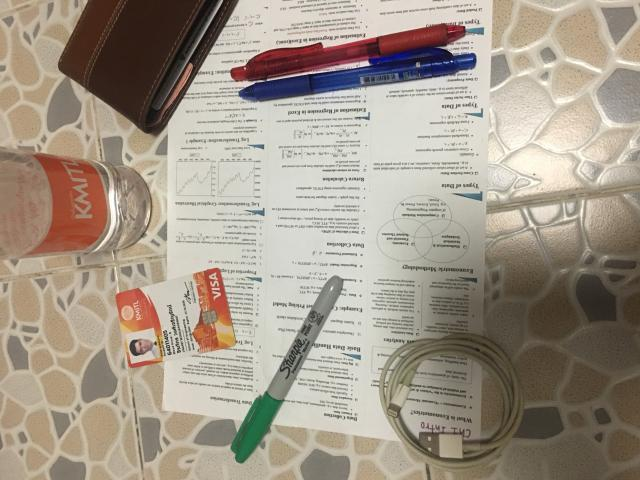Pen: (231, 275, 342, 462), (230, 24, 466, 81), (239, 48, 476, 100)
Wallet: (59, 0, 238, 134)
bottle: (0, 148, 151, 259)
paper: (163, 0, 493, 453)
wire: (379, 334, 524, 471)
